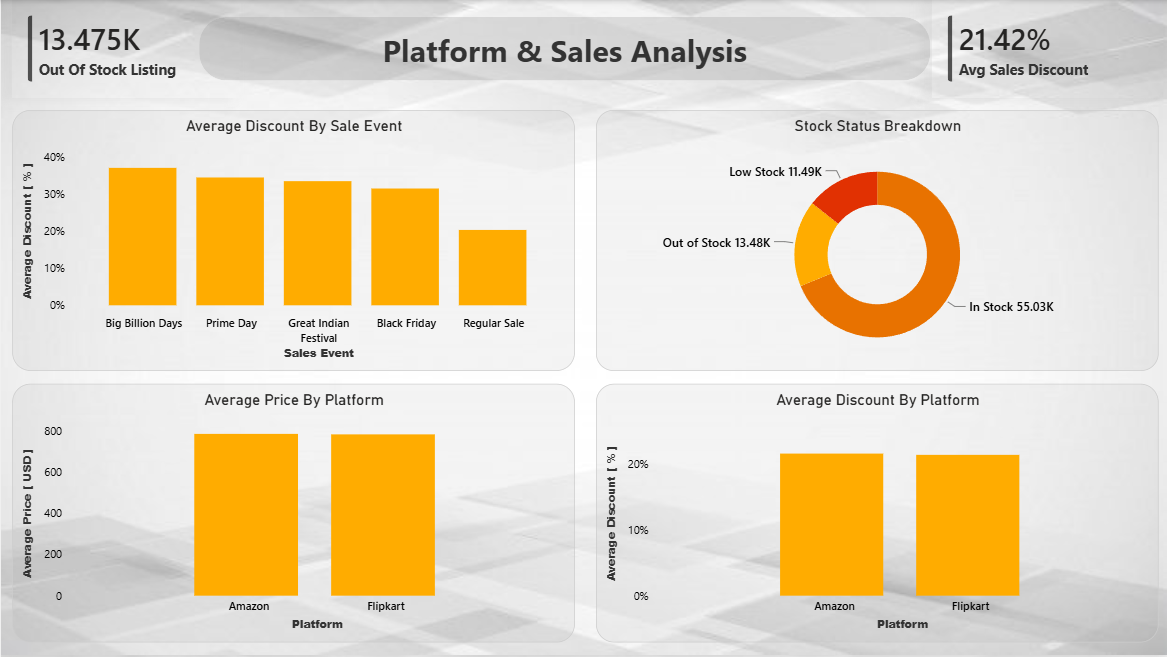

Layout of this report page (visuals, bound fields, positions):
{"tool":"powerbi","page":{"name":"Overview","canvas":[1280,720],"ordinal":0},"visuals":[{"type":"shape","box":[12.3,13.7,557.1,90.6],"z":0},{"type":"cardVisual","fields":{"Data":["Avg(apple_pricing_clean.current_price_usd)"]},"box":[811,13.7,222.3,102.9],"z":1000},{"type":"cardVisual","fields":{"Data":["CountNonNull(apple_pricing_clean.model_name)"]},"box":[588.7,13.7,222.3,102.9],"z":2000},{"type":"cardVisual","fields":{"Data":["Avg(apple_pricing_clean.discount_pct)"]},"box":[1033.3,13.7,247,105.7],"z":3000},{"type":"lineChart","title":"Price Trend Over Time","fields":{"Category":["DateTable.Year"],"Y":["Sum(apple_pricing_clean.current_price_usd)"]},"box":[340.3,127.6,458.3,264.8],"z":4000},{"type":"clusteredColumnChart","title":"Average Price By Category","fields":{"Category":["apple_pricing_clean.product_category"],"Y":["Avg(apple_pricing_clean.current_price_usd)"]},"box":[340.3,437.7,458.3,263.5],"z":5000},{"type":"donutChart","title":"Average Discount By Category","fields":{"Category":["apple_pricing_clean.product_category"],"Y":["Avg(apple_pricing_clean.discount_pct)"]},"box":[12.3,437.7,318.4,263.5],"z":6000},{"type":"listSlicer","title":"Models","fields":{"Values":["apple_pricing_clean.model_name"]},"box":[12.3,129,318.4,263.5],"z":7000},{"type":"clusteredColumnChart","title":"Average Discount By Sale Event","fields":{"Category":["apple_pricing_clean.sale_event"],"Y":["Avg(apple_pricing_clean.discount_pct)"]},"box":[809.6,129,459.7,263.5],"z":8000},{"type":"donutChart","title":"Stock Status Breakdown","fields":{"Category":["apple_pricing_clean.stock_status"],"Y":["CountNonNull(apple_pricing_clean.model_name)"]},"box":[811,437.7,446,263.5],"z":9000}]}

Visuals, with their boxes in screenshot pixels (x1, y1, x2, y2), scaled from the page's 1280x720 canvas onto the 1167x657 screenshot:
shape: bbox=[11, 13, 519, 95]
cardVisual - Avg(apple_pricing_clean.current_price_usd): bbox=[739, 13, 942, 106]
cardVisual - CountNonNull(apple_pricing_clean.model_name): bbox=[537, 13, 739, 106]
cardVisual - Avg(apple_pricing_clean.discount_pct): bbox=[942, 13, 1166, 109]
"Price Trend Over Time" lineChart: bbox=[310, 116, 728, 358]
"Average Price By Category" clusteredColumnChart: bbox=[310, 399, 728, 640]
"Average Discount By Category" donutChart: bbox=[11, 399, 302, 640]
"Models" listSlicer: bbox=[11, 118, 302, 358]
"Average Discount By Sale Event" clusteredColumnChart: bbox=[738, 118, 1157, 358]
"Stock Status Breakdown" donutChart: bbox=[739, 399, 1146, 640]
